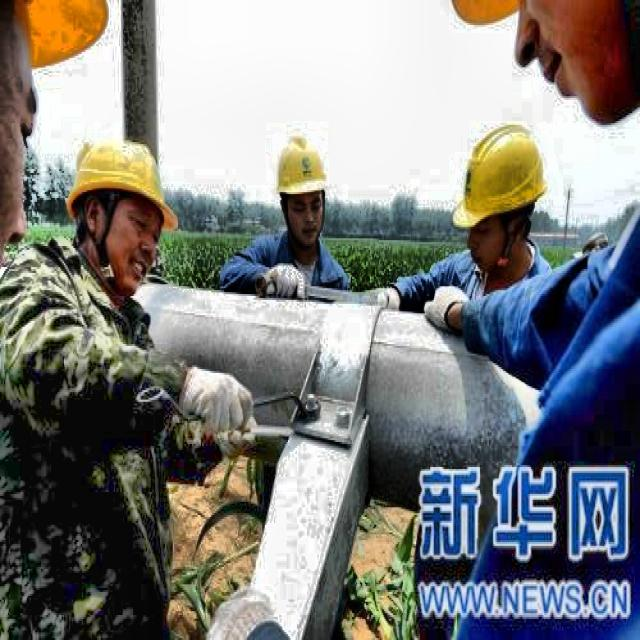helmet: (60, 115, 184, 300), (450, 100, 556, 292), (274, 121, 337, 258)
